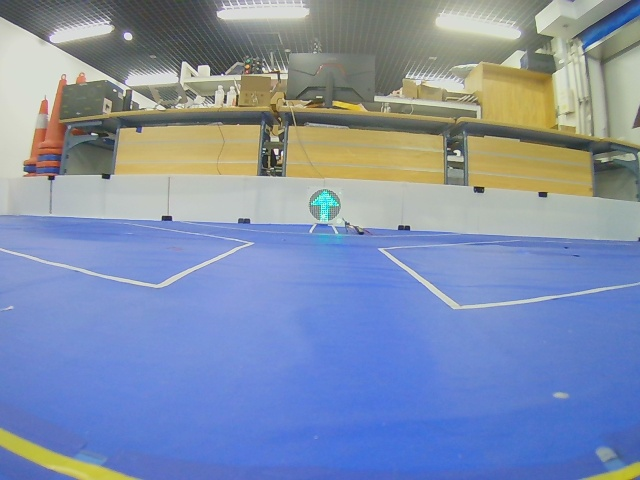straight_green: (309, 189, 341, 222)
